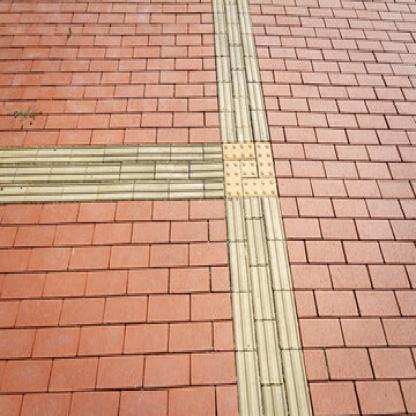podotacti: (4, 0, 322, 416)
